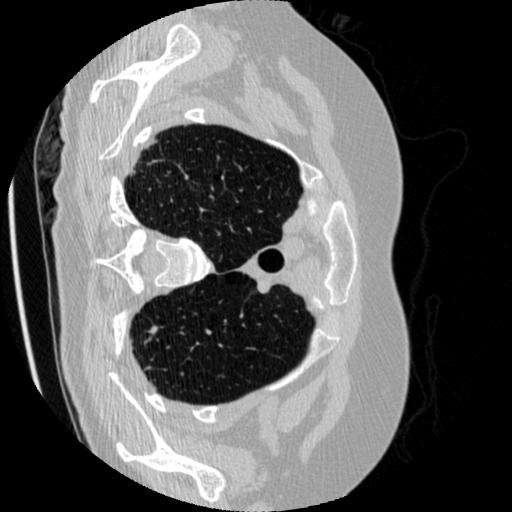nodule: (149, 322, 163, 336)
